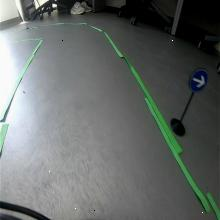right: (190, 68, 208, 94)
